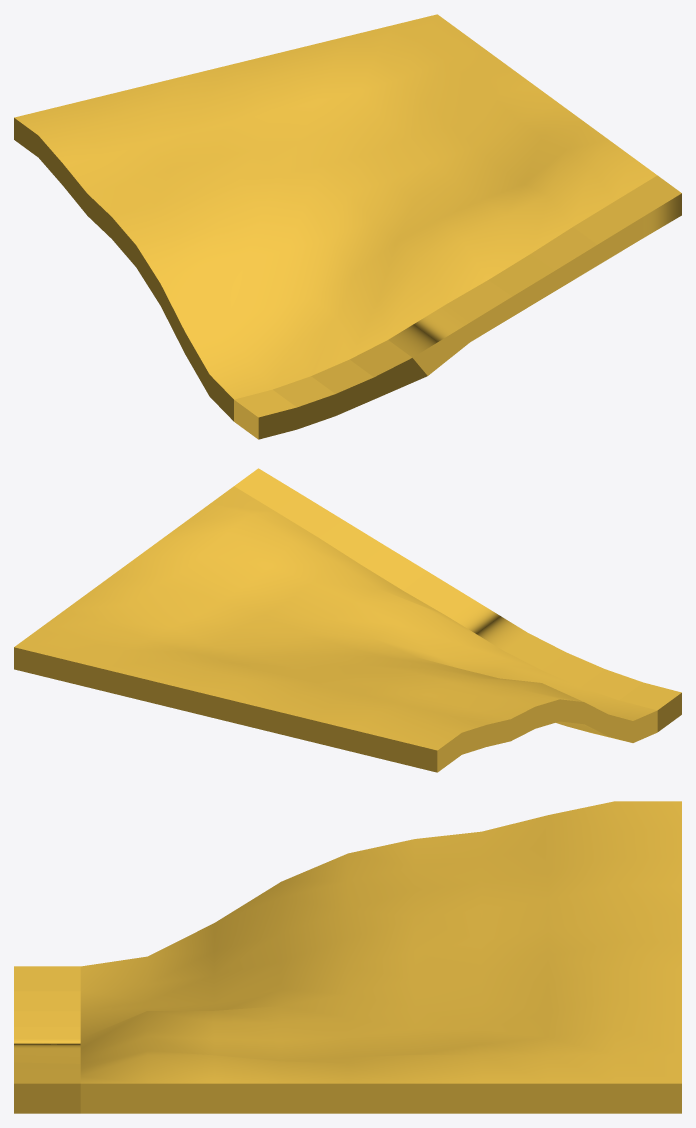
Rendered from Flach - Unten - Ecke Invertiert a - x.fbx.
3 renders of one model, top to bottom at view 1: azimuth 30°, elevation 25°; view 2: azimuth 150°, elevation 25°; view 3: azimuth 270°, elevation 25°, orthographic. The views are drawn at different scales.
Visible parts, largest first — view 1: Flach - Unten - Ecke Invertiert a - x; view 2: Flach - Unten - Ecke Invertiert a - x; view 3: Flach - Unten - Ecke Invertiert a - x.
Boxes of the visible parts, <box> form: Flach - Unten - Ecke Invertiert a - x: <box>14,14,681,439</box>; Flach - Unten - Ecke Invertiert a - x: <box>14,468,681,772</box>; Flach - Unten - Ecke Invertiert a - x: <box>14,801,681,1113</box>.
Bounding box in the file's own units: 394 × 127 × 394.
